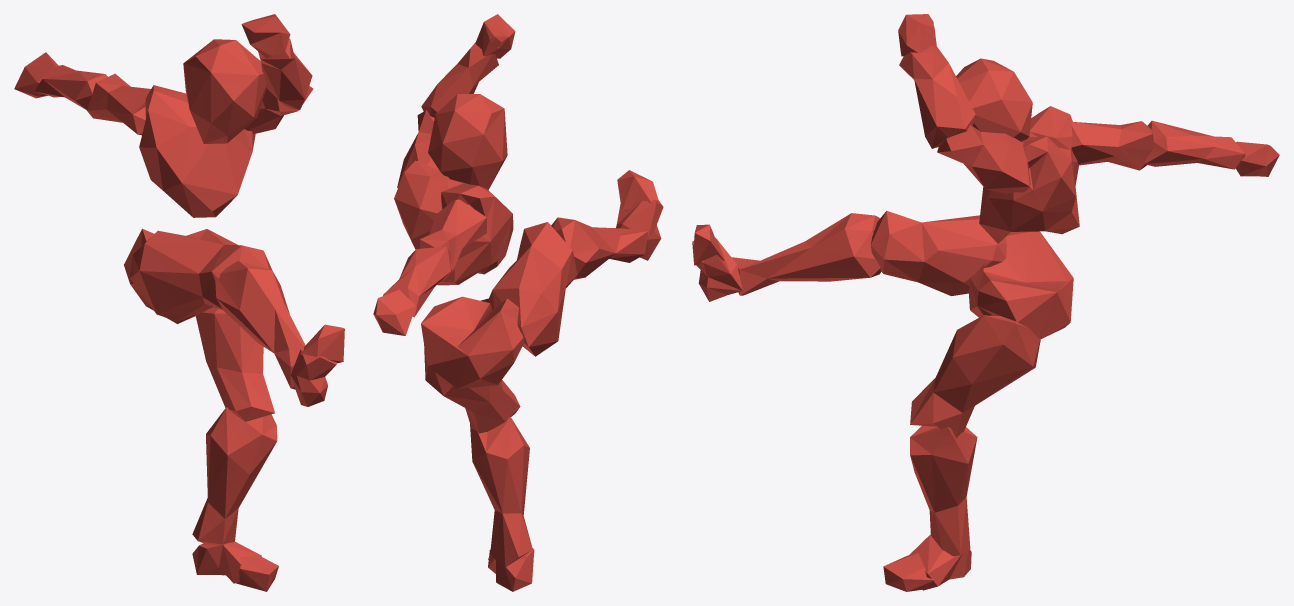
File: 2dancer0158.obj
3 renders of one model, left to right at view 1: azimuth 30°, elevation 25°; view 2: azimuth 150°, elevation 25°; view 3: azimuth 270°, elevation 25°, orthographic. The views are drawn at different scales.
Parts seen in each view (by area): view 1: Beta_Surface; view 2: Beta_Surface; view 3: Beta_Surface.
Boxes of the visible parts, x1=… form: Beta_Surface: x1=14, y1=14, x2=344, y2=591; Beta_Surface: x1=373, y1=14, x2=663, y2=591; Beta_Surface: x1=692, y1=14, x2=1279, y2=591.
Size of the model in its own units: 0.5663 by 1.92 by 1.76.
